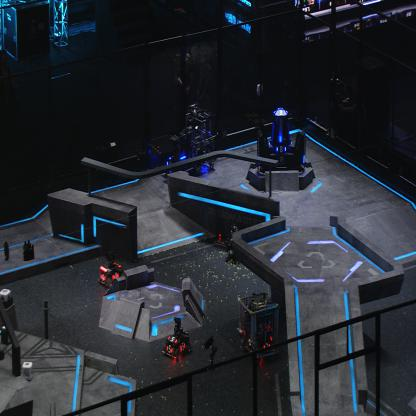car: (237, 290, 280, 362), (184, 102, 218, 170), (164, 124, 200, 181), (161, 314, 192, 360), (97, 249, 124, 289), (225, 224, 247, 262)
